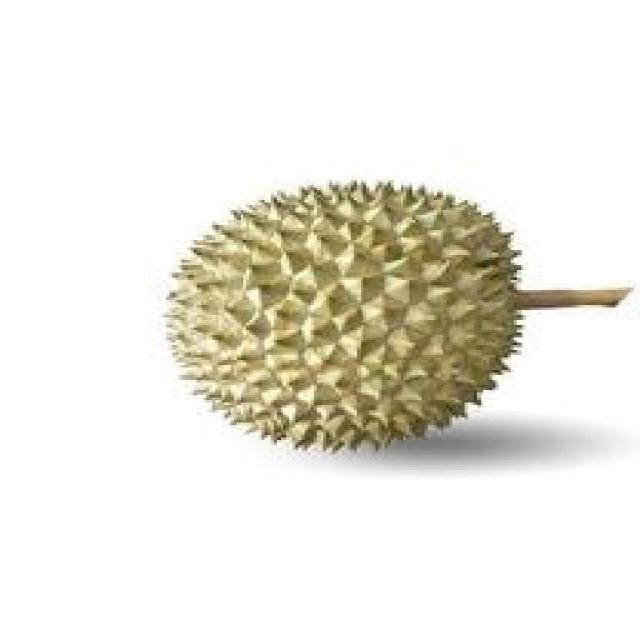fruit: (132, 140, 557, 518)
